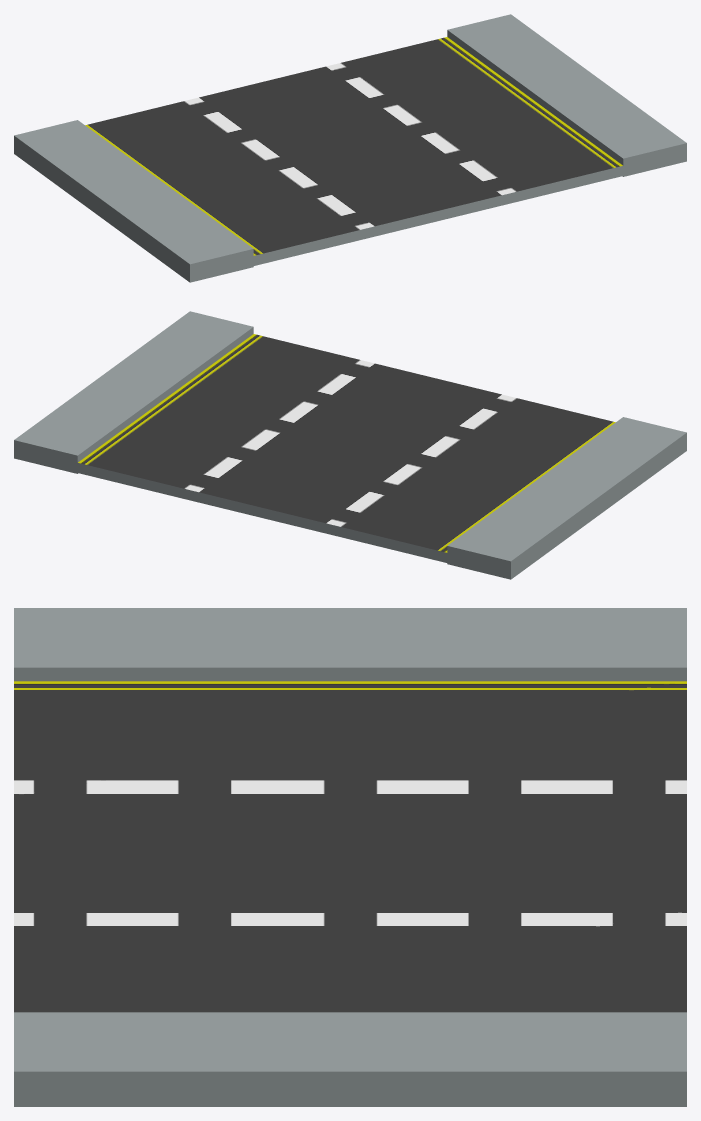
The model's file is Road.fbx.
The picture shows the model from 3 angles, top to bottom: view 1: azimuth 30°, elevation 25°; view 2: azimuth 150°, elevation 25°; view 3: azimuth 270°, elevation 25°; orthographic projection. The views are drawn at different scales.
Parts seen in each view (by area): view 1: pCube1, pCube2; view 2: pCube1, pCube2; view 3: pCube1, pCube2.
Boxes of the visible parts, left/top/right/bottom form: pCube1: left=85, top=37, right=623, bottom=265; pCube2: left=14, top=14, right=686, bottom=282; pCube1: left=77, top=334, right=615, bottom=562; pCube2: left=14, top=311, right=686, bottom=579; pCube1: left=14, top=681, right=686, bottom=1012; pCube2: left=14, top=608, right=686, bottom=1106.
Size of the model in its own units: 28.29 by 1 by 17.36.
